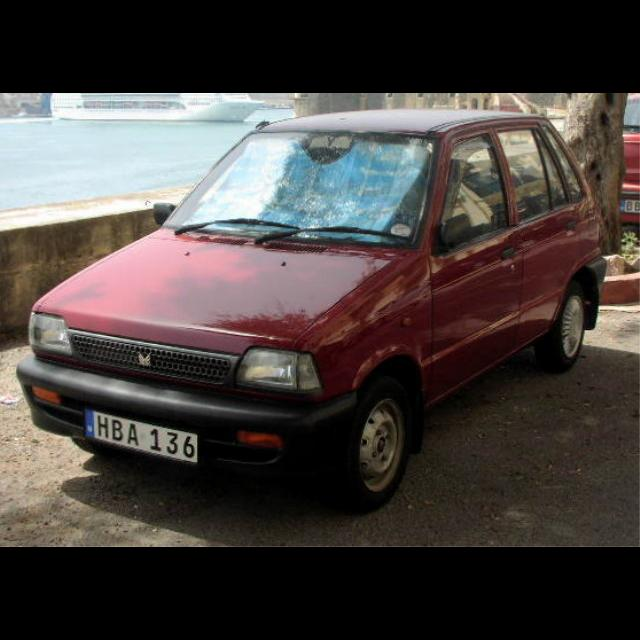vehicles: (22, 111, 606, 509)
